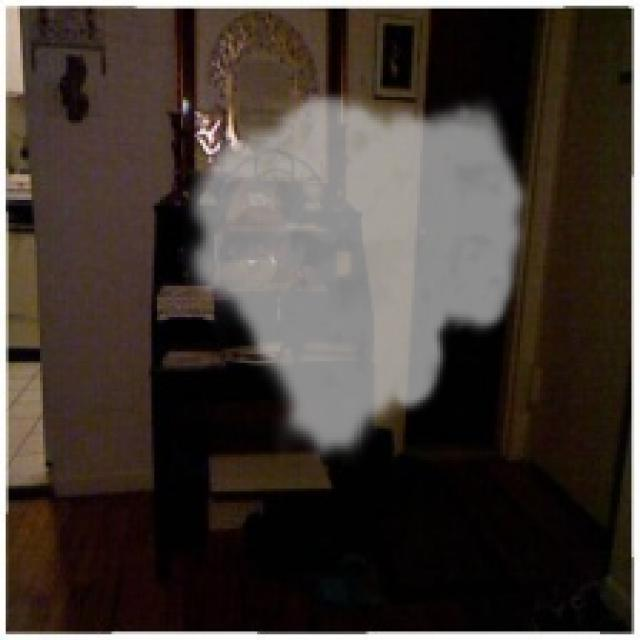Smoke: (177, 88, 532, 466)
